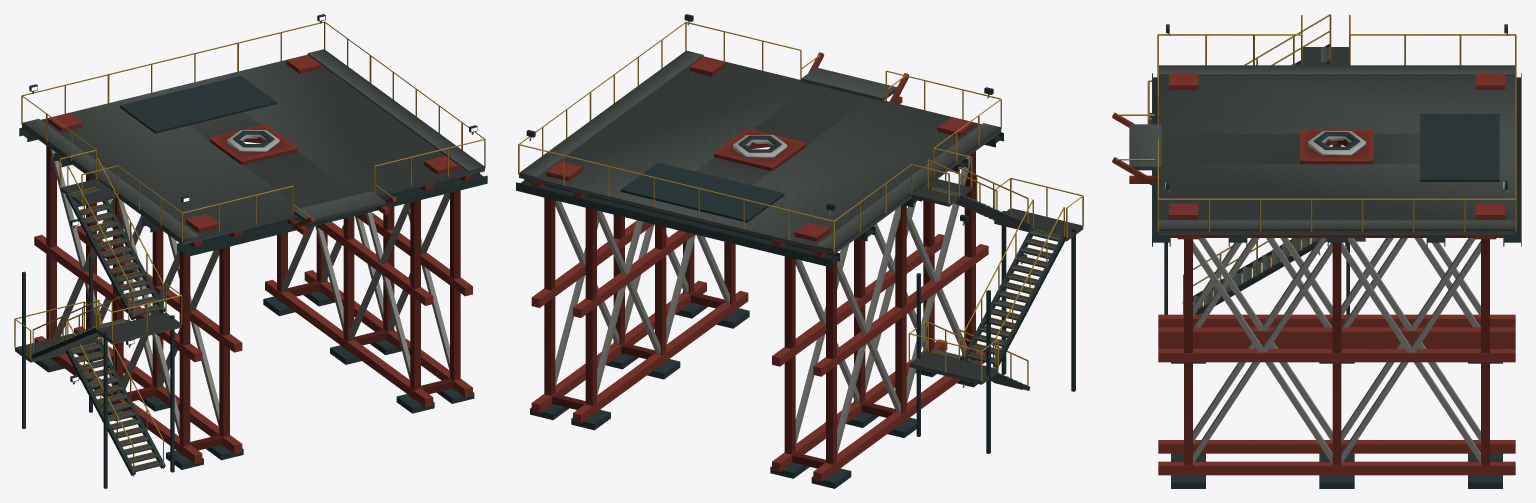
File: substructure_drill_floor_lodl.glb
3 views of the same model, side by side, from view 1: azimuth 30°, elevation 25°; view 2: azimuth 150°, elevation 25°; view 3: azimuth 270°, elevation 25° (orthographic). The views are drawn at different scales.
Parts seen in each view (by area): view 1: drill_floor_deck, box_on_box_frames_oxide, box_on_box_frames_ivory, perimeter_grating_deck, setback_dark, floor_support_beams_dark, box_on_box_frames_dark, handrails_yellow, flight_1_deck, stairs_dark, flight_3_deck, flight_2_deck (+10 smaller); view 2: drill_floor_deck, box_on_box_frames_oxide, box_on_box_frames_ivory, perimeter_grating_deck, setback_dark, floor_support_beams_dark, box_on_box_frames_dark, flight_2_deck, handrails_yellow, stairs_dark, flight_2_yellow, derrick_mounts_oxide (+8 smaller); view 3: drill_floor_deck, box_on_box_frames_oxide, box_on_box_frames_ivory, perimeter_grating_deck, setback_dark, handrails_yellow, floor_support_beams_dark, box_on_box_frames_dark, derrick_mounts_oxide, rotary_table_oxide, vdoor_deck, flight_1_deck (+7 smaller).
Part boxes in pixels (x1,y1,x2,y2): drill_floor_deck: (22,54,484,244); box_on_box_frames_oxide: (34,146,472,463); box_on_box_frames_ivory: (51,150,449,437); perimeter_grating_deck: (22,49,484,241); setback_dark: (119,76,276,133); floor_support_beams_dark: (19,127,487,257); box_on_box_frames_dark: (34,291,474,469); handrails_yellow: (21,21,485,241); flight_1_deck: (15,330,162,471); stairs_dark: (22,255,174,488); flight_3_deck: (71,188,162,316); flight_2_deck: (34,312,181,357); drill_floor_deck: (519,56,1001,254); box_on_box_frames_oxide: (531,151,988,482); box_on_box_frames_ivory: (555,155,970,455); perimeter_grating_deck: (519,50,1000,250); setback_dark: (620,162,784,222); floor_support_beams_dark: (516,132,1003,267); box_on_box_frames_dark: (530,302,977,488); flight_2_deck: (965,208,1083,364); handrails_yellow: (518,21,1001,251); stairs_dark: (916,211,1075,453); flight_2_yellow: (964,177,1083,368); derrick_mounts_oxide: (546,57,973,241); drill_floor_deck: (1158,76,1515,234); box_on_box_frames_oxide: (1158,144,1515,475); box_on_box_frames_ivory: (1193,238,1480,464); perimeter_grating_deck: (1159,65,1514,230); setback_dark: (1420,113,1499,181); handrails_yellow: (1157,34,1516,231); floor_support_beams_dark: (1152,73,1521,246); box_on_box_frames_dark: (1171,362,1502,488); derrick_mounts_oxide: (1169,73,1504,219); rotary_table_oxide: (1300,130,1373,164); vdoor_deck: (1129,124,1161,170); flight_1_deck: (1193,238,1365,308).
Size of the model in its own units: 15.26 by 10.54 by 12.83.
Materials: 8 (8 with a texture image).
